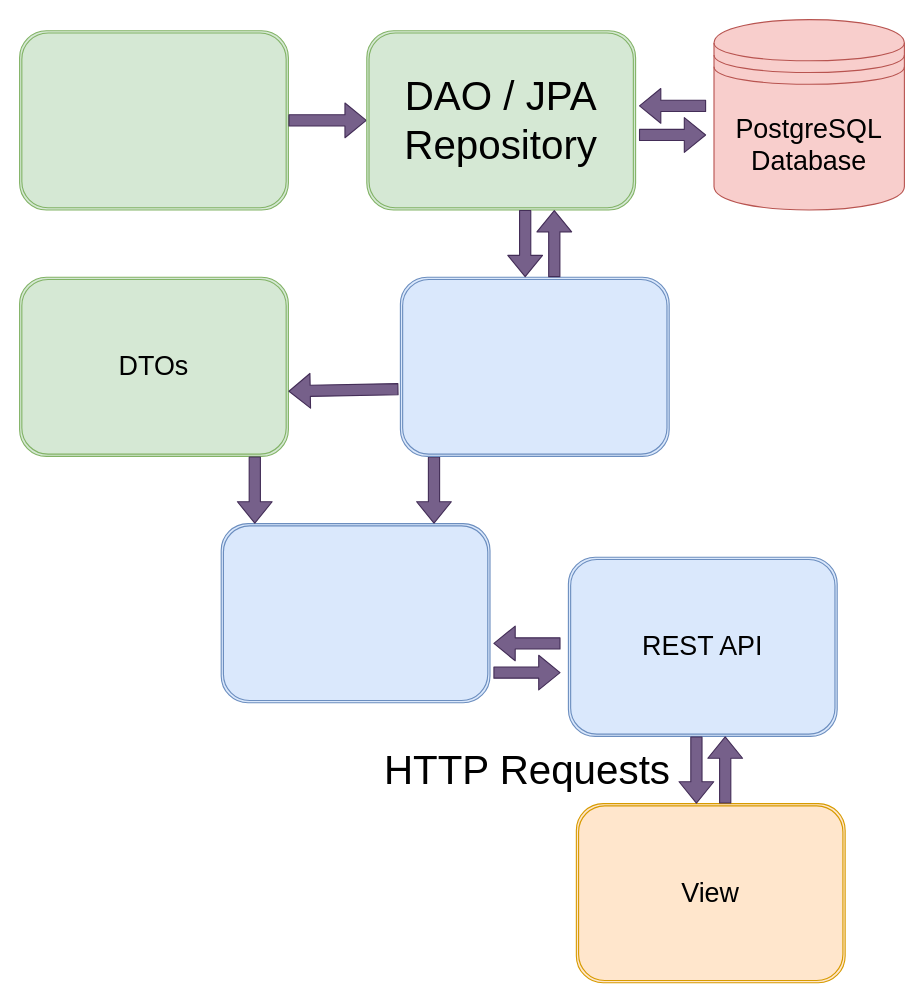
The diagram is 924 pixels wide and 1002 high, and some of its shapes have lost their labels. The shapes that lost their labels are listed below. From the top down, each one's box as (x1, y1, x2, y2) in pixels, then its label:
(18, 30, 288, 210): Models / Entities
(399, 276, 669, 456): Controllers
(220, 522, 490, 703): Services
